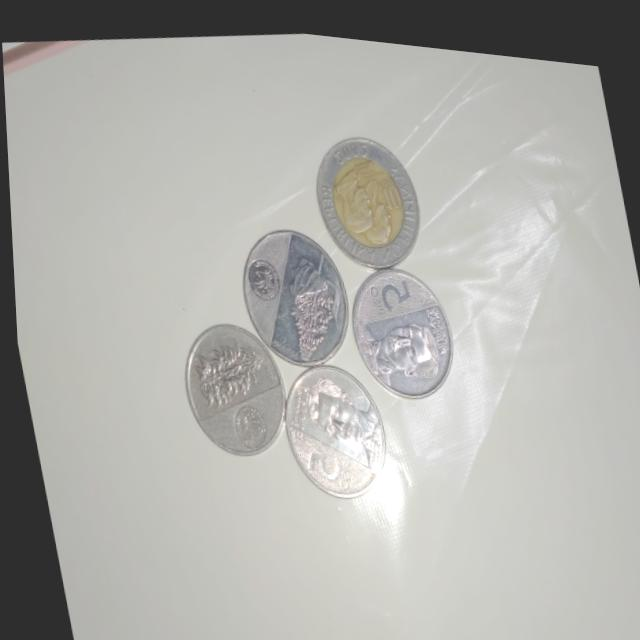10_New_Back: (273, 234, 356, 364)
10_Old_Front: (359, 150, 412, 222)
5_New_Back: (173, 320, 271, 419)
5_New_Front: (357, 257, 417, 318)
